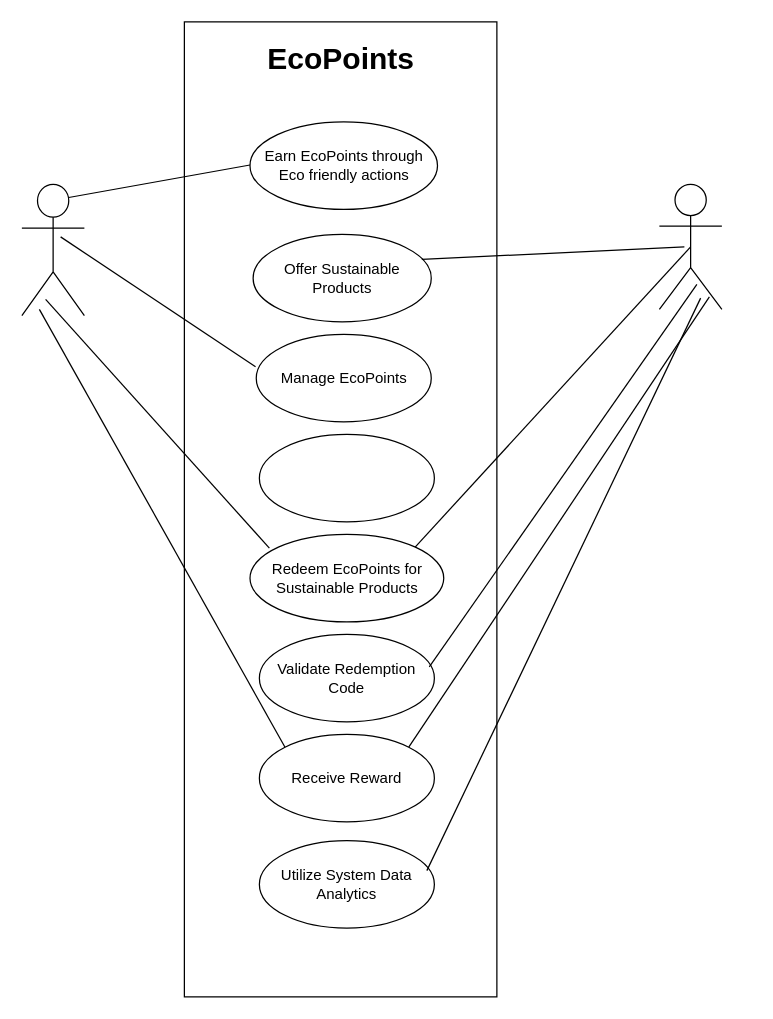
The diagram is 773 pixels wide and 1019 high, and some of its shapes have lost their labels. Here are the shapes that lost their labels. From the top down, the centre of each, then its label:
At [52,249]: "User".
At [690,246]: "Business Partners".
At [346,477]: "Generate Redemption Code".
